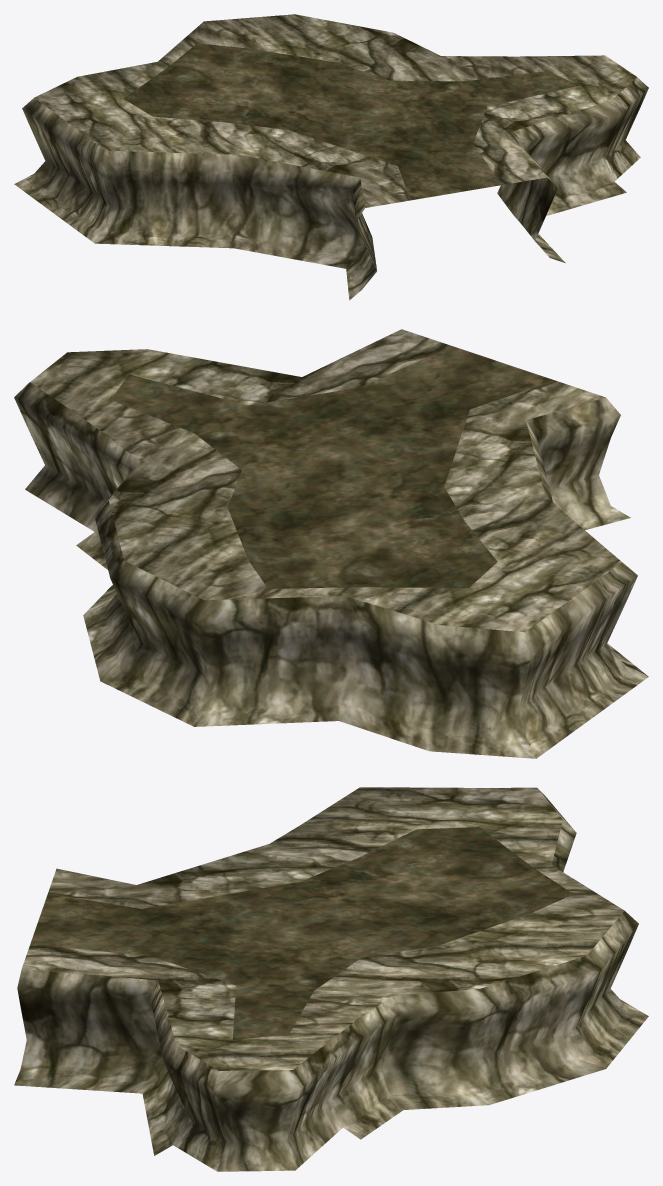
The model's file is CB_NEWPLAYSURFACE_CB_PLAYSURFACE71.fbx.
3 renders of one model, top to bottom at view 1: azimuth 30°, elevation 25°; view 2: azimuth 150°, elevation 25°; view 3: azimuth 270°, elevation 25°, orthographic. The views are drawn at different scales.
Parts seen in each view (by area): view 1: CB_NEWPLAYSURFACE_CB_PLAYSURFACE71; view 2: CB_NEWPLAYSURFACE_CB_PLAYSURFACE71; view 3: CB_NEWPLAYSURFACE_CB_PLAYSURFACE71.
Boxes of the visible parts, x1=… form: CB_NEWPLAYSURFACE_CB_PLAYSURFACE71: x1=14, y1=14, x2=648, y2=300; CB_NEWPLAYSURFACE_CB_PLAYSURFACE71: x1=14, y1=329, x2=648, y2=758; CB_NEWPLAYSURFACE_CB_PLAYSURFACE71: x1=14, y1=787, x2=648, y2=1171.
Bounding box in the file's own units: 211521 × 35371 × 190101.
3 materials, 3 textured.
